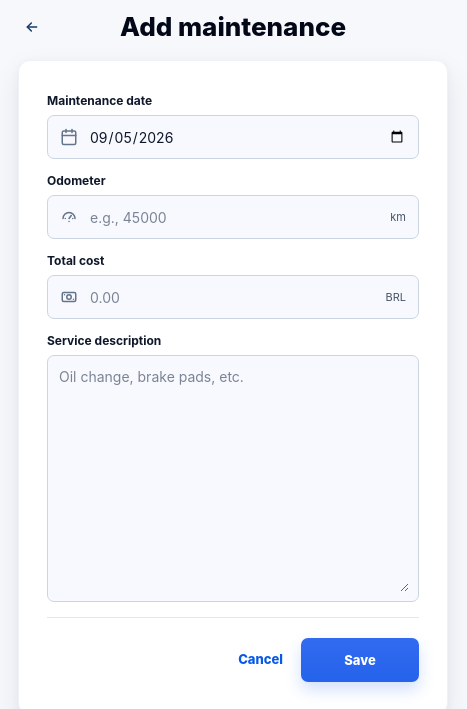
Test: MaintenanceCreatePage › shows field errors returned by the API
Type "2026-07-07" into the date field labelled "Maintenance date".
click(247, 137); type("2026-07-07")  # box x1=88 y1=116 x2=406 y2=158
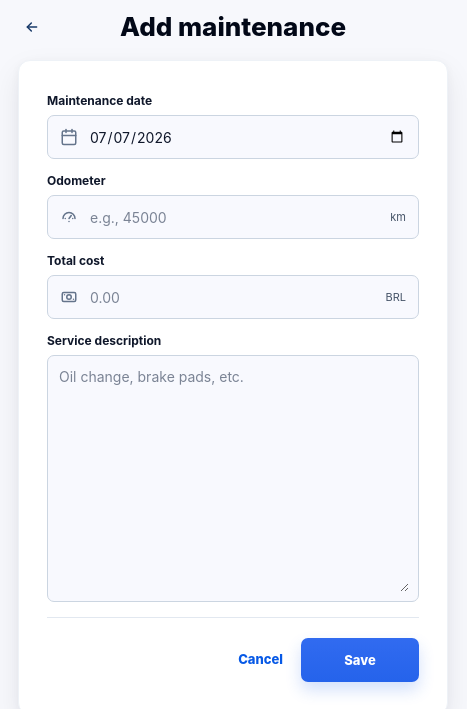
Type "35000" into the number field labelled "Odometer".
click(234, 217); type("35000")  # box x1=88 y1=196 x2=380 y2=238
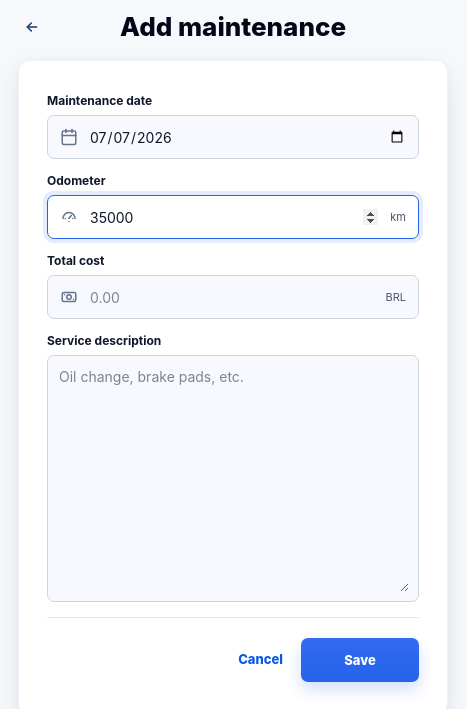
Type "250.00" into the field labelled "Total cost".
click(232, 297); type("250.00")  # box x1=88 y1=276 x2=376 y2=318
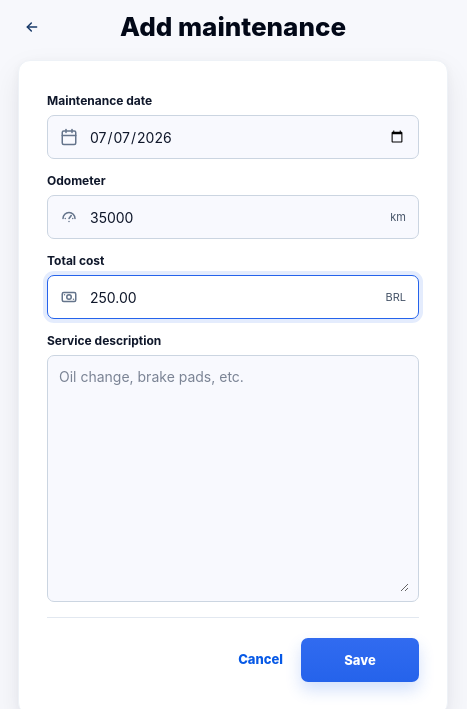
Type "Oil change" into the text box labelled "Service description".
click(233, 479); type("Oil change")  # box x1=57 y1=365 x2=409 y2=592
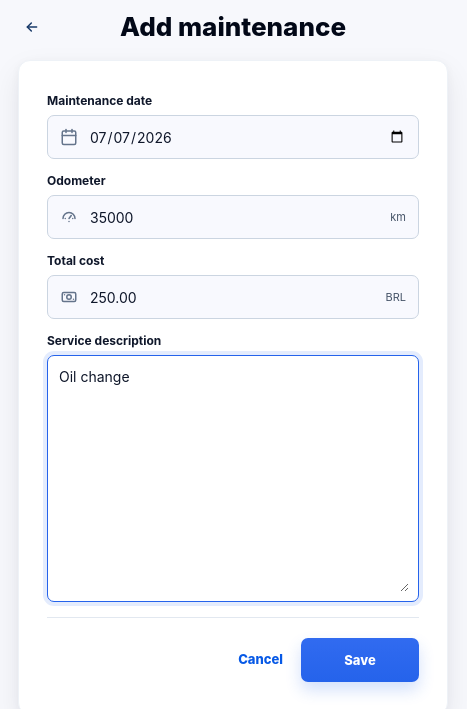
Click the button "Save".
click(360, 660)  # box x1=301 y1=638 x2=419 y2=682
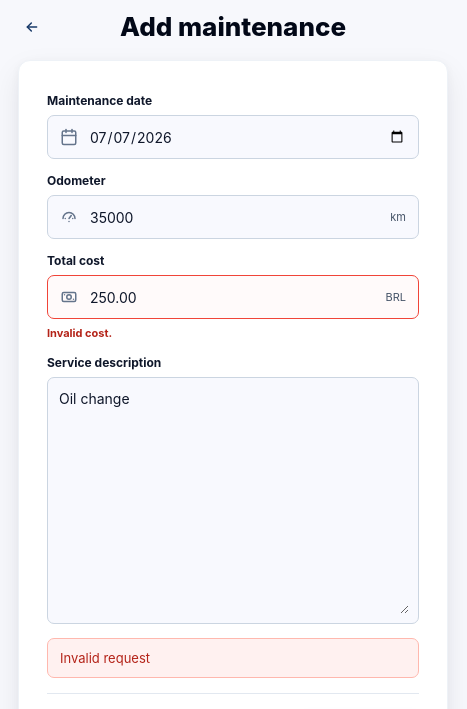
Result: the text "Invalid cost." is shown at x1=47 y1=326 x2=112 y2=340
